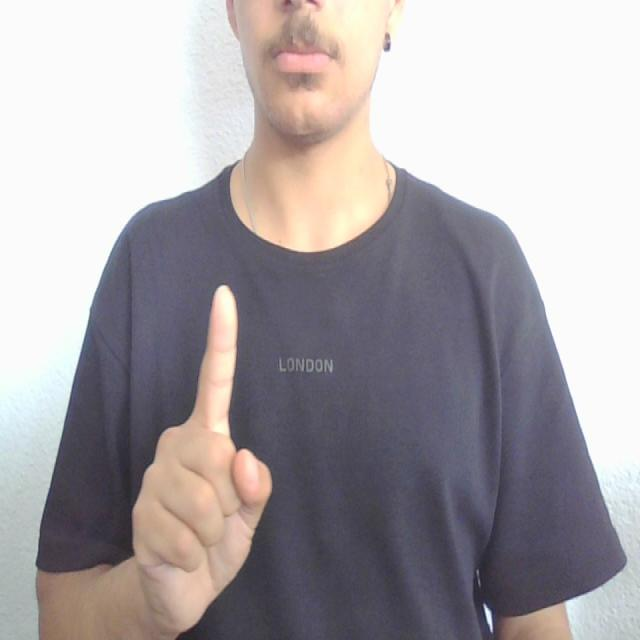Hayir: (106, 260, 276, 640)
